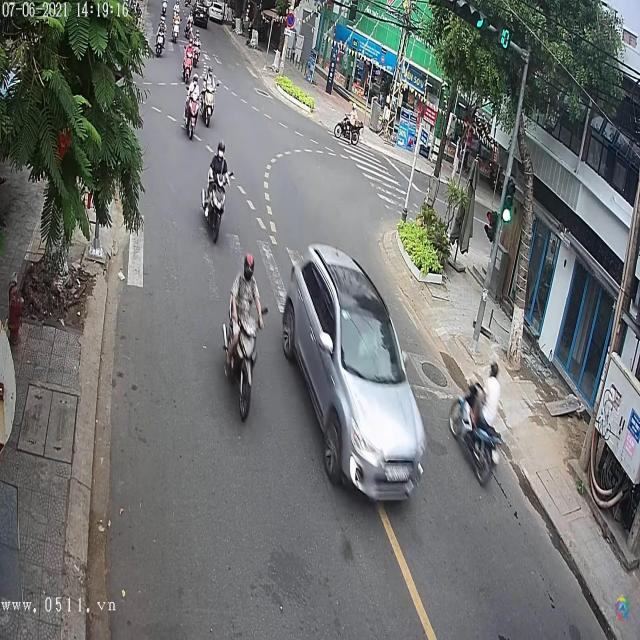car: (284, 244, 426, 497)
motorcycle: (448, 369, 506, 497), (222, 273, 263, 421), (201, 159, 234, 246), (182, 80, 202, 142), (334, 110, 362, 146), (199, 80, 218, 128), (179, 45, 196, 87), (155, 24, 166, 58)
